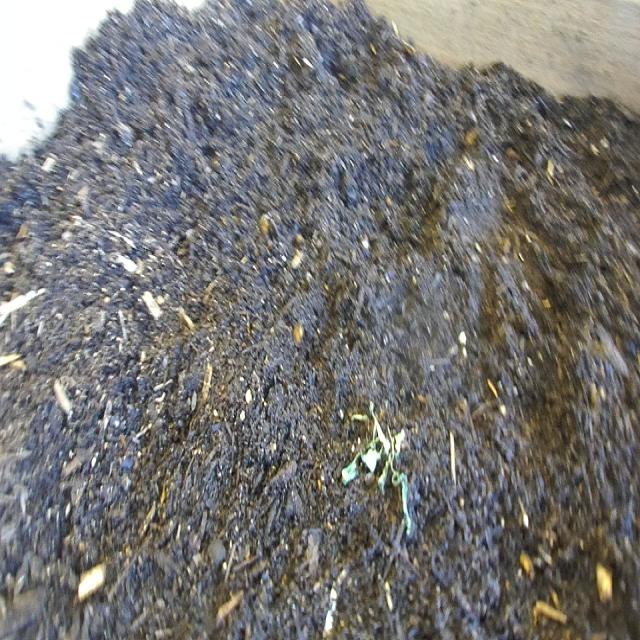Unhealthy: (341, 386, 422, 546)
